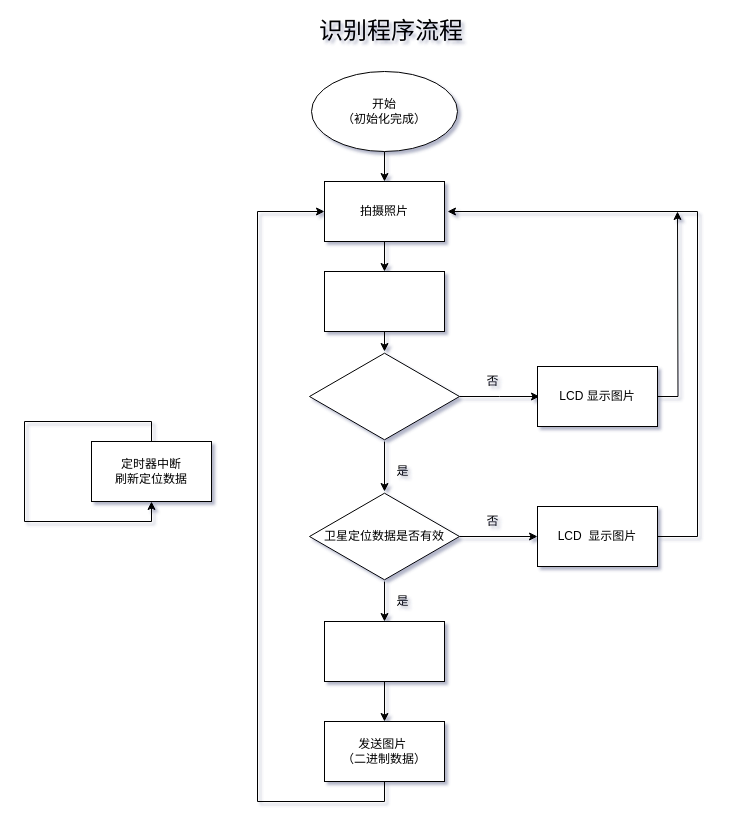
Image size: 729x833. Some labels were removed from this diagram. The centre of each missing label's shape, as x and y in pixels:
"AI算法识别" belongs at point 384,301.
"发送图片信息" belongs at point 384,651.
"是否检测到缺陷" belongs at point 384,396.
